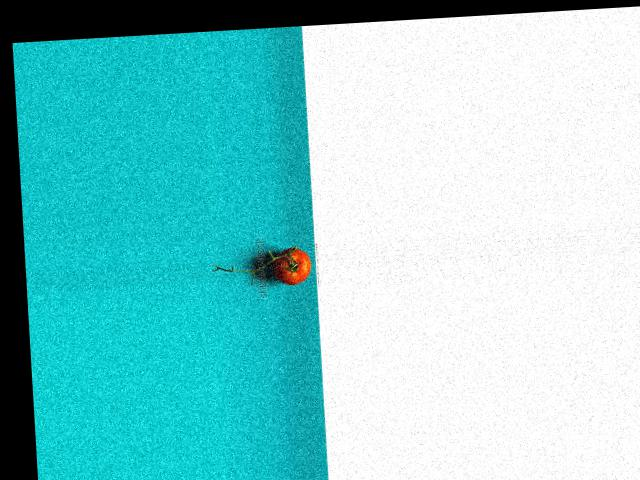tomato: (272, 245, 311, 285)
